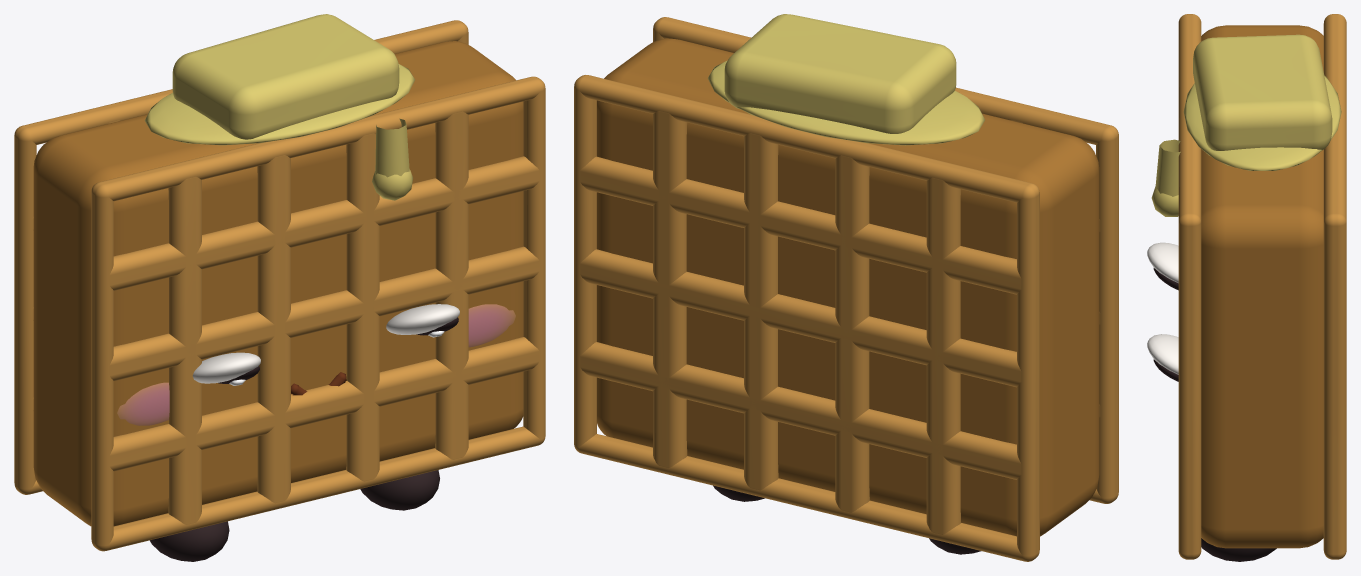
The model's file is folk_waffle.glb.
The picture shows the model from 3 angles, left to right: view 1: azimuth 30°, elevation 25°; view 2: azimuth 150°, elevation 25°; view 3: azimuth 270°, elevation 25°; orthographic projection. The views are drawn at different scales.
Parts seen in each view (by area): view 1: waffle_body, waffle_foot_l, waffle_foot_r, waffle_eye_r, waffle_eye_l; view 2: waffle_body; view 3: waffle_body, waffle_eye_l, waffle_eye_r, waffle_foot_r.
Part boxes in pixels (x1,y1,x2,y2): waffle_body: (14, 14, 545, 551); waffle_foot_l: (150, 521, 229, 561); waffle_foot_r: (360, 470, 439, 510); waffle_eye_r: (386, 304, 459, 337); waffle_eye_l: (192, 352, 260, 385); waffle_body: (574, 14, 1118, 561); waffle_body: (1151, 14, 1346, 559); waffle_eye_l: (1147, 242, 1178, 290); waffle_eye_r: (1147, 334, 1178, 381); waffle_foot_r: (1201, 538, 1276, 561).
Bounding box in the file's own units: 0.7949 × 0.7928 × 0.324.
